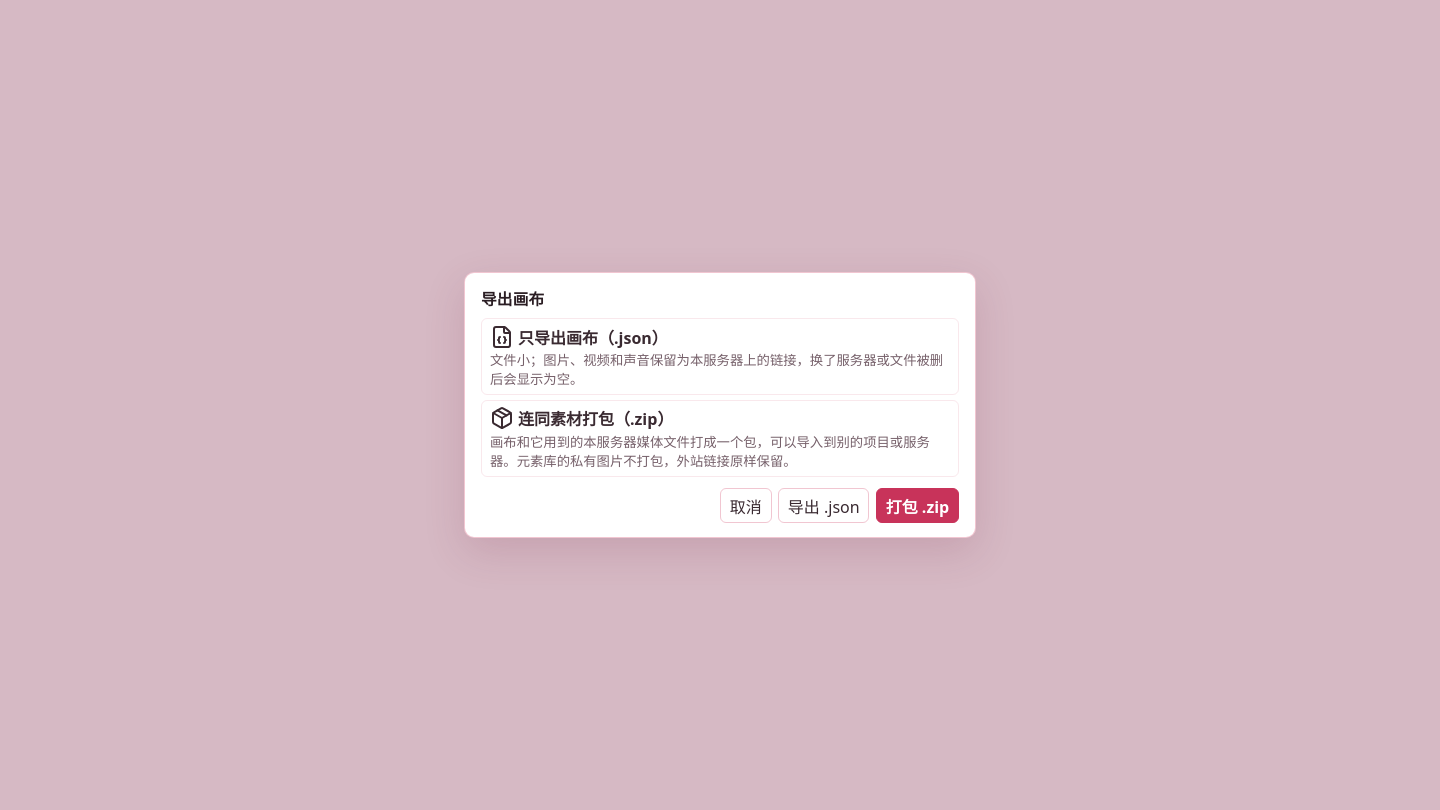
Test: exporting a canvas › saves first, then downloads the bundle under the name the server gives it
The image size is (1440, 810).
Step 1. Click the button "打包 .zip" → (917, 506), box [876,488,959,523]
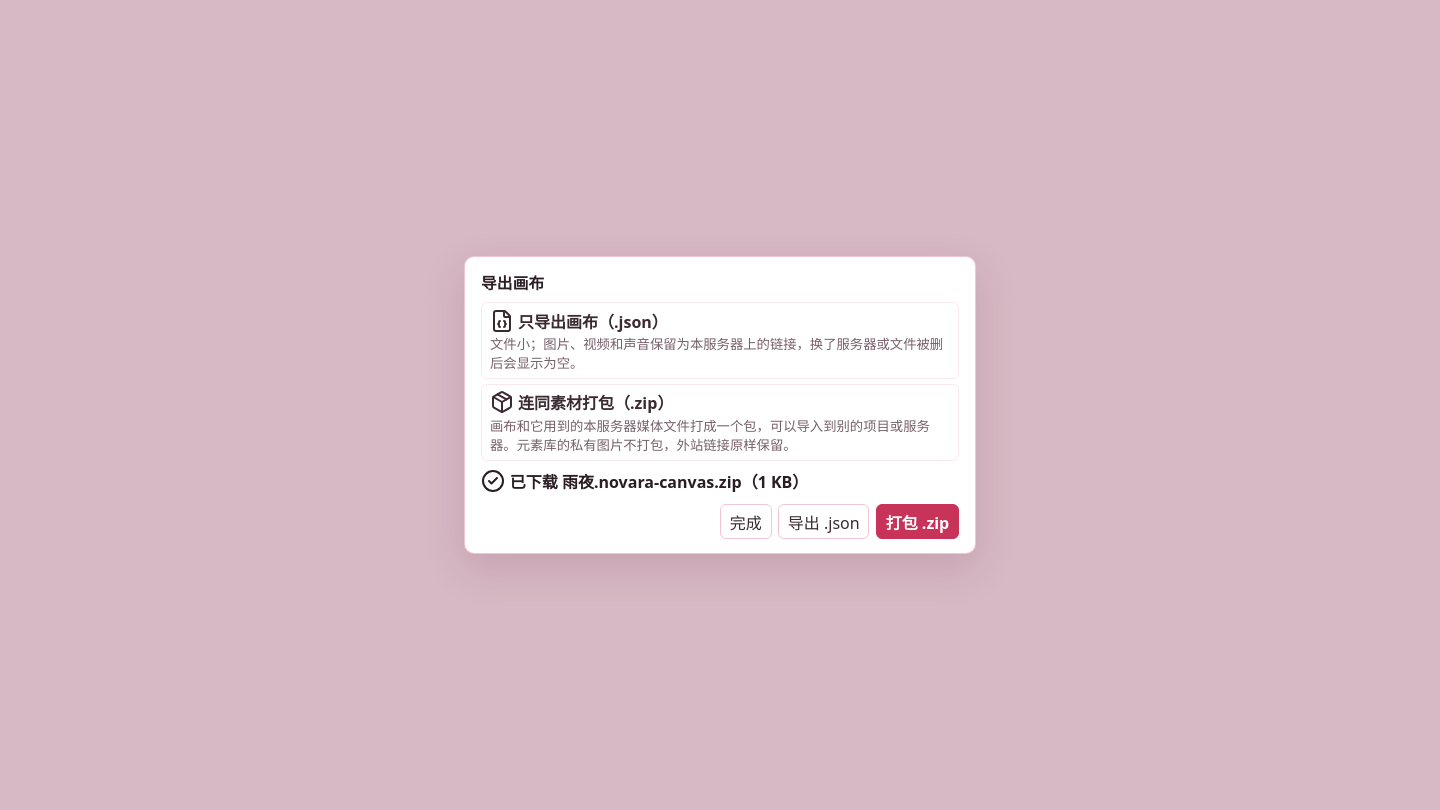
expect the text "已下载 雨夜.novara-canvas.zip（1 KB）" is shown: met, box [481,469,808,493]
